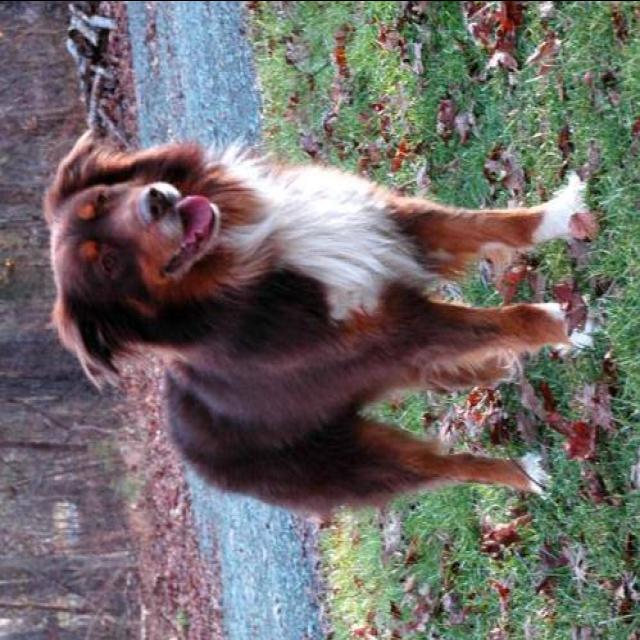dog: (51, 50, 588, 536)
